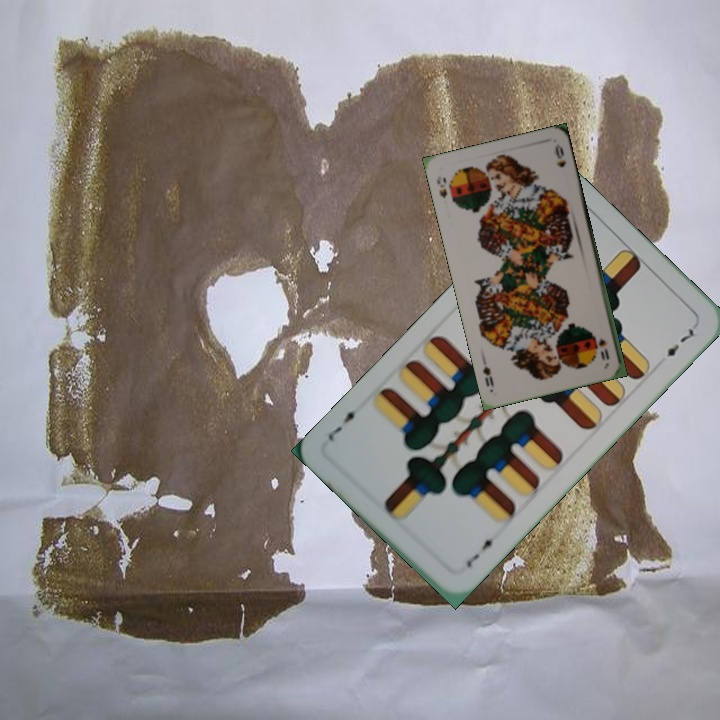E7: (461, 532, 501, 571)
SO: (432, 172, 450, 200), (595, 334, 612, 362)
